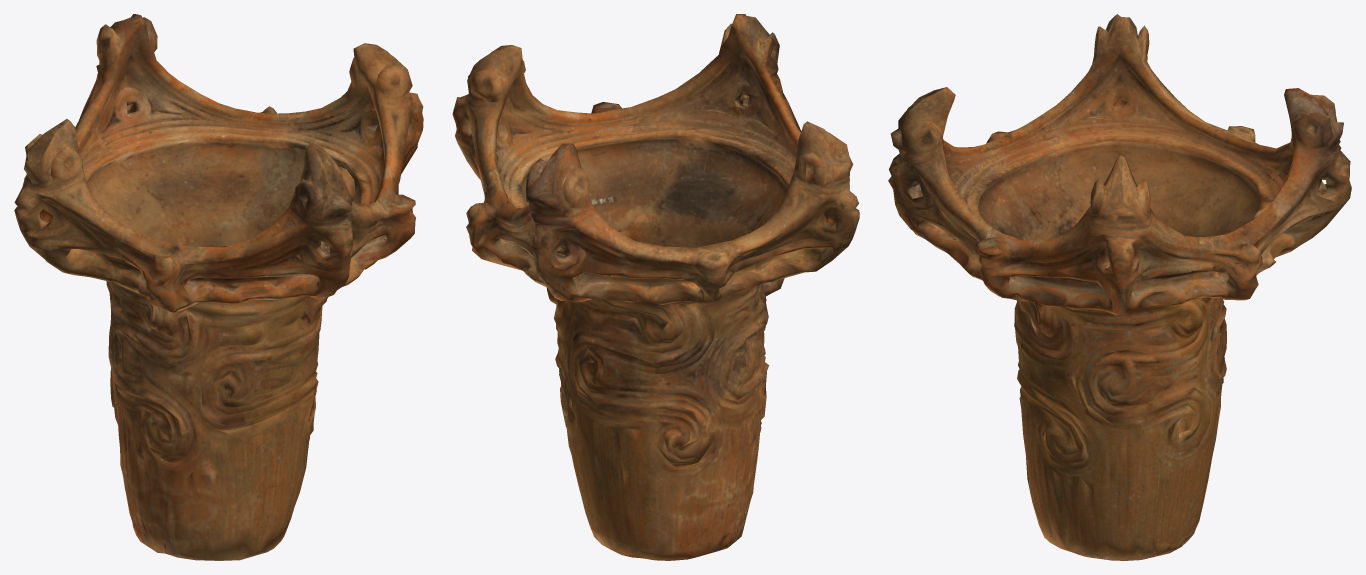
3 views of the same model, side by side, from view 1: azimuth 30°, elevation 25°; view 2: azimuth 150°, elevation 25°; view 3: azimuth 270°, elevation 25° (orthographic).
Visible parts, largest first — view 1: IN0017_low; view 2: IN0017_low; view 3: IN0017_low.
Boxes of the visible parts, left/top/right/bottom form: IN0017_low: left=14, top=14, right=423, bottom=560; IN0017_low: left=452, top=14, right=859, bottom=560; IN0017_low: left=888, top=14, right=1351, bottom=560.
Size of the model in its own units: 364 by 385 by 360.
1 material, 1 textured.
